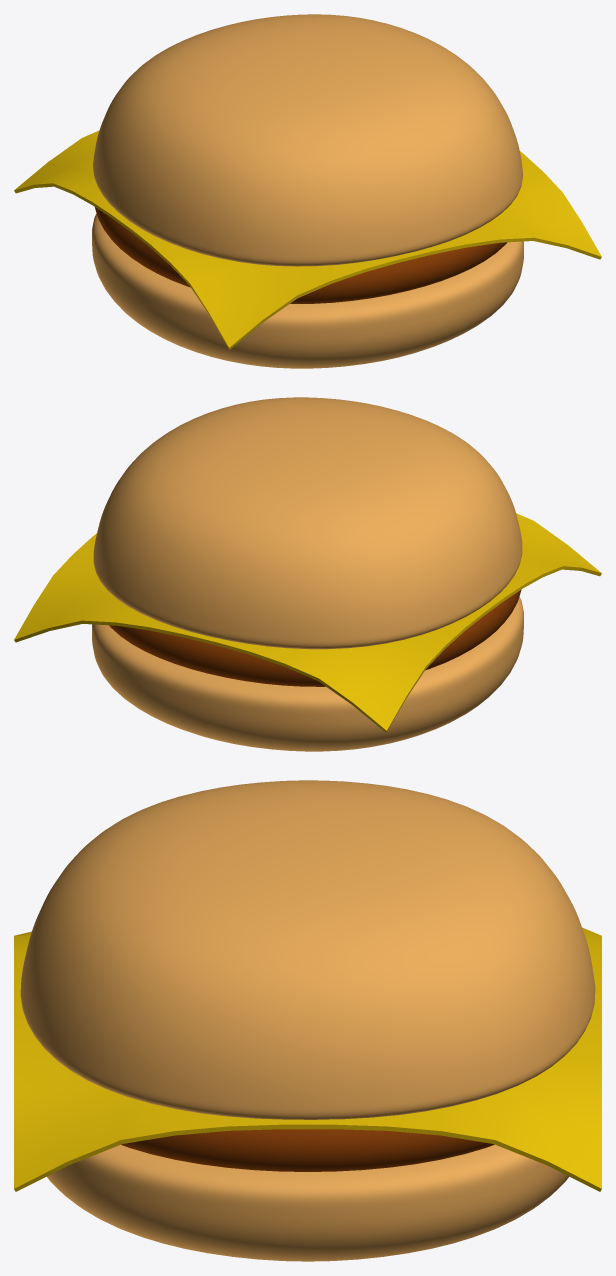
Rendered from Hamburger.glb.
3 views of the same model, one above another, from view 1: azimuth 30°, elevation 25°; view 2: azimuth 150°, elevation 25°; view 3: azimuth 270°, elevation 25° (orthographic). The views are drawn at different scales.
Visible parts, largest first — view 1: Cube.002, Cube, Plane, Cube.001; view 2: Cube.002, Cube, Plane, Cube.001; view 3: Cube.002, Cube, Plane, Cube.001.
Part boxes in pixels (<box>): Cube.002: <box>93,14,522,266</box>; Cube: <box>92,213,523,368</box>; Plane: <box>14,130,601,349</box>; Cube.001: <box>95,207,506,303</box>; Cube.002: <box>93,397,522,649</box>; Cube: <box>92,597,523,751</box>; Plane: <box>14,513,601,732</box>; Cube.001: <box>109,590,521,686</box>; Cube.002: <box>20,780,595,1119</box>; Cube: <box>47,1144,568,1261</box>; Plane: <box>14,927,601,1191</box>; Cube.001: <box>121,1129,494,1171</box>.
Bounding box in the file's own units: 9.33 × 6.11 × 9.33.
